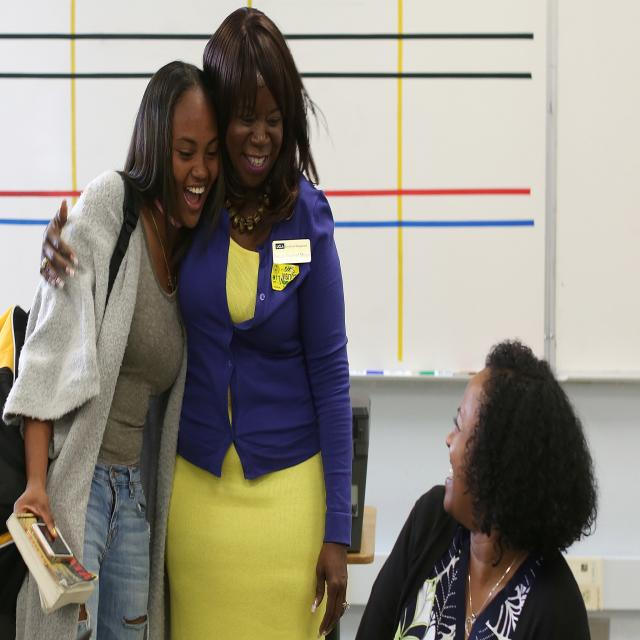body: (2, 56, 240, 640), (164, 7, 354, 640), (324, 338, 614, 640)
